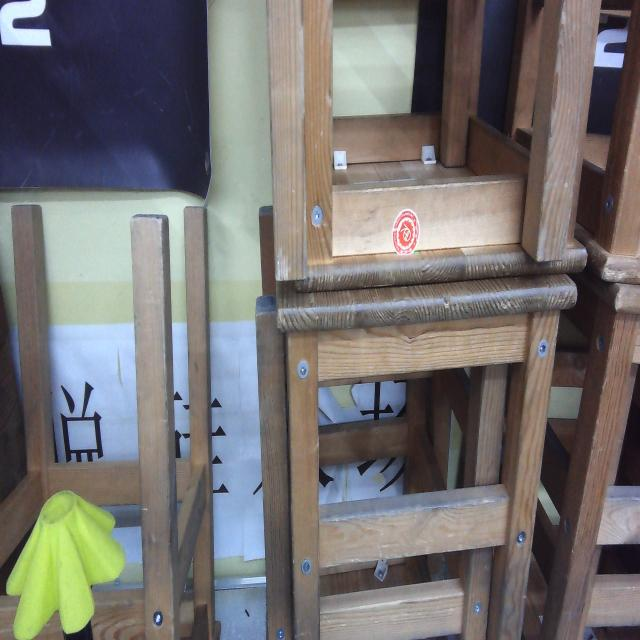Yellow-Stake-Head: (7, 490, 126, 640)
